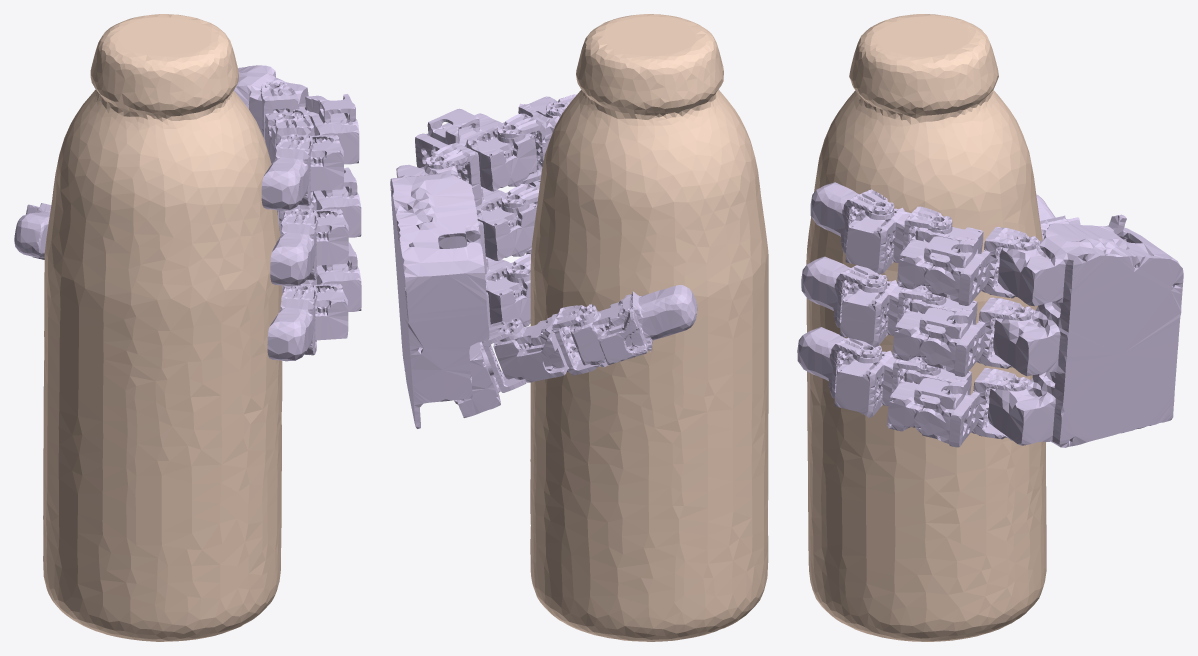
The model's file is 551d7b868048ee-closed.glb.
3 views of the same model, side by side, from view 1: azimuth 30°, elevation 25°; view 2: azimuth 150°, elevation 25°; view 3: azimuth 270°, elevation 25° (orthographic).
Visible parts, largest first — view 1: world, LEAP_hand; view 2: world, LEAP_hand; view 3: world, LEAP_hand.
Part boxes in pixels (left/top/right/bottom): world: left=43, top=14, right=282, bottom=641; LEAP_hand: left=14, top=65, right=361, bottom=361; world: left=530, top=14, right=768, bottom=641; LEAP_hand: left=390, top=94, right=697, bottom=428; world: left=806, top=14, right=1046, bottom=641; LEAP_hand: left=797, top=182, right=1183, bottom=447.
Bounding box in the file's own units: 0.2094 × 0.3587 × 0.2213.
